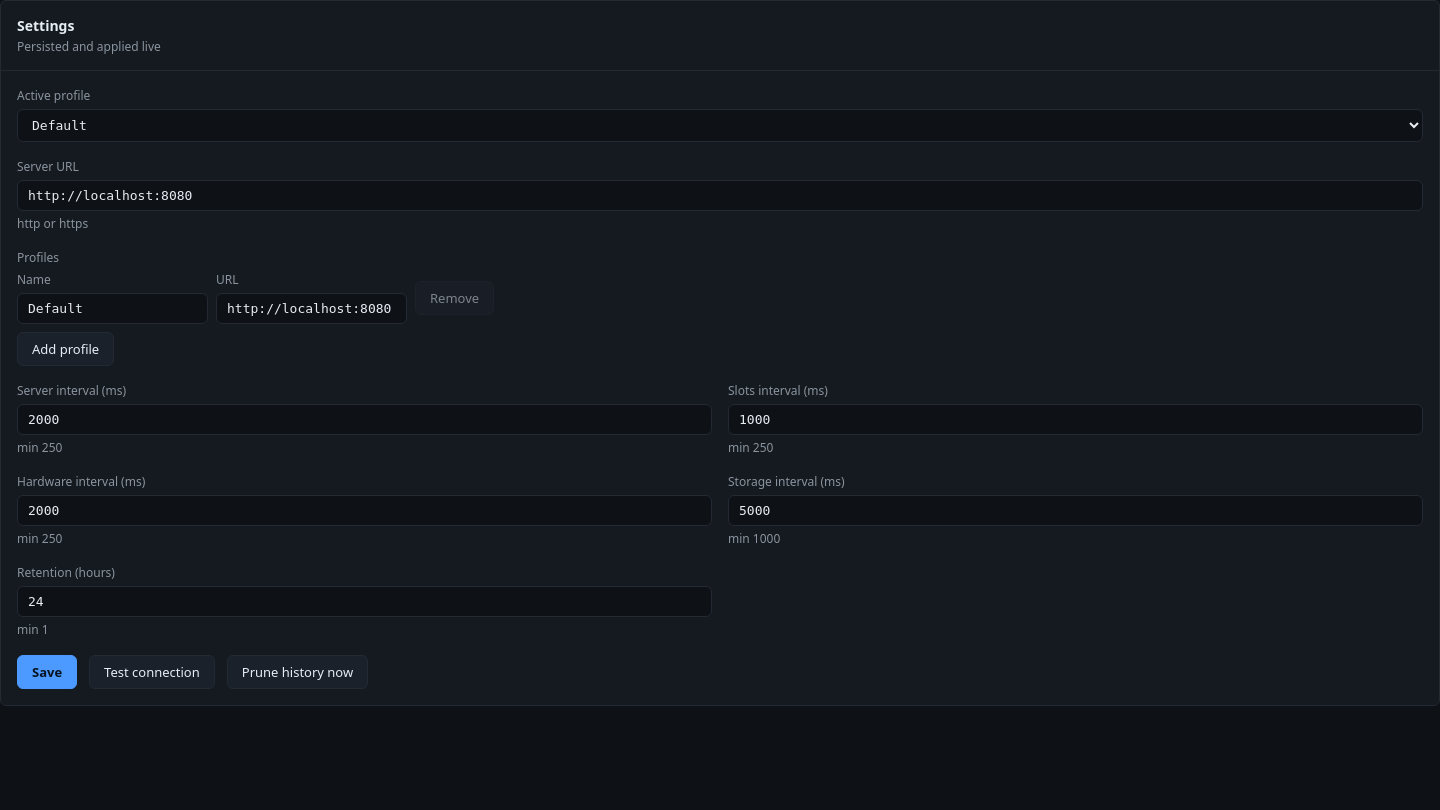
Scenario: Settings › should show the connection test result after probing the server
expect the field labelled "Server URL" is shown: met, box [17, 180, 1423, 211]
Click the button "Test connection": (152, 672) [89, 655, 215, 689]
(page scrolled)
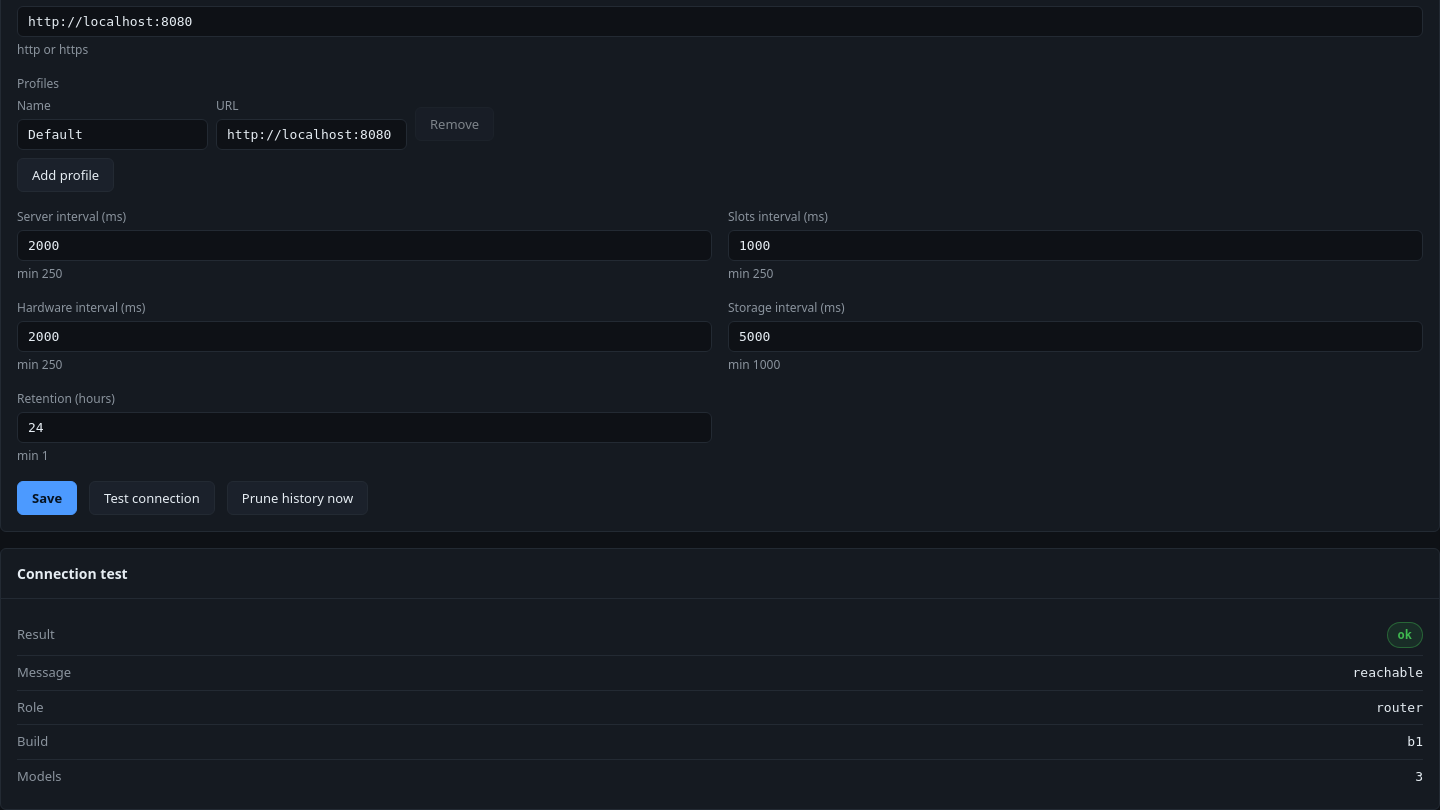
expect the text "reachable" is shown: met, box [1352, 663, 1423, 682]
expect the text "ok" is shown: met, box [1386, 622, 1423, 648]
